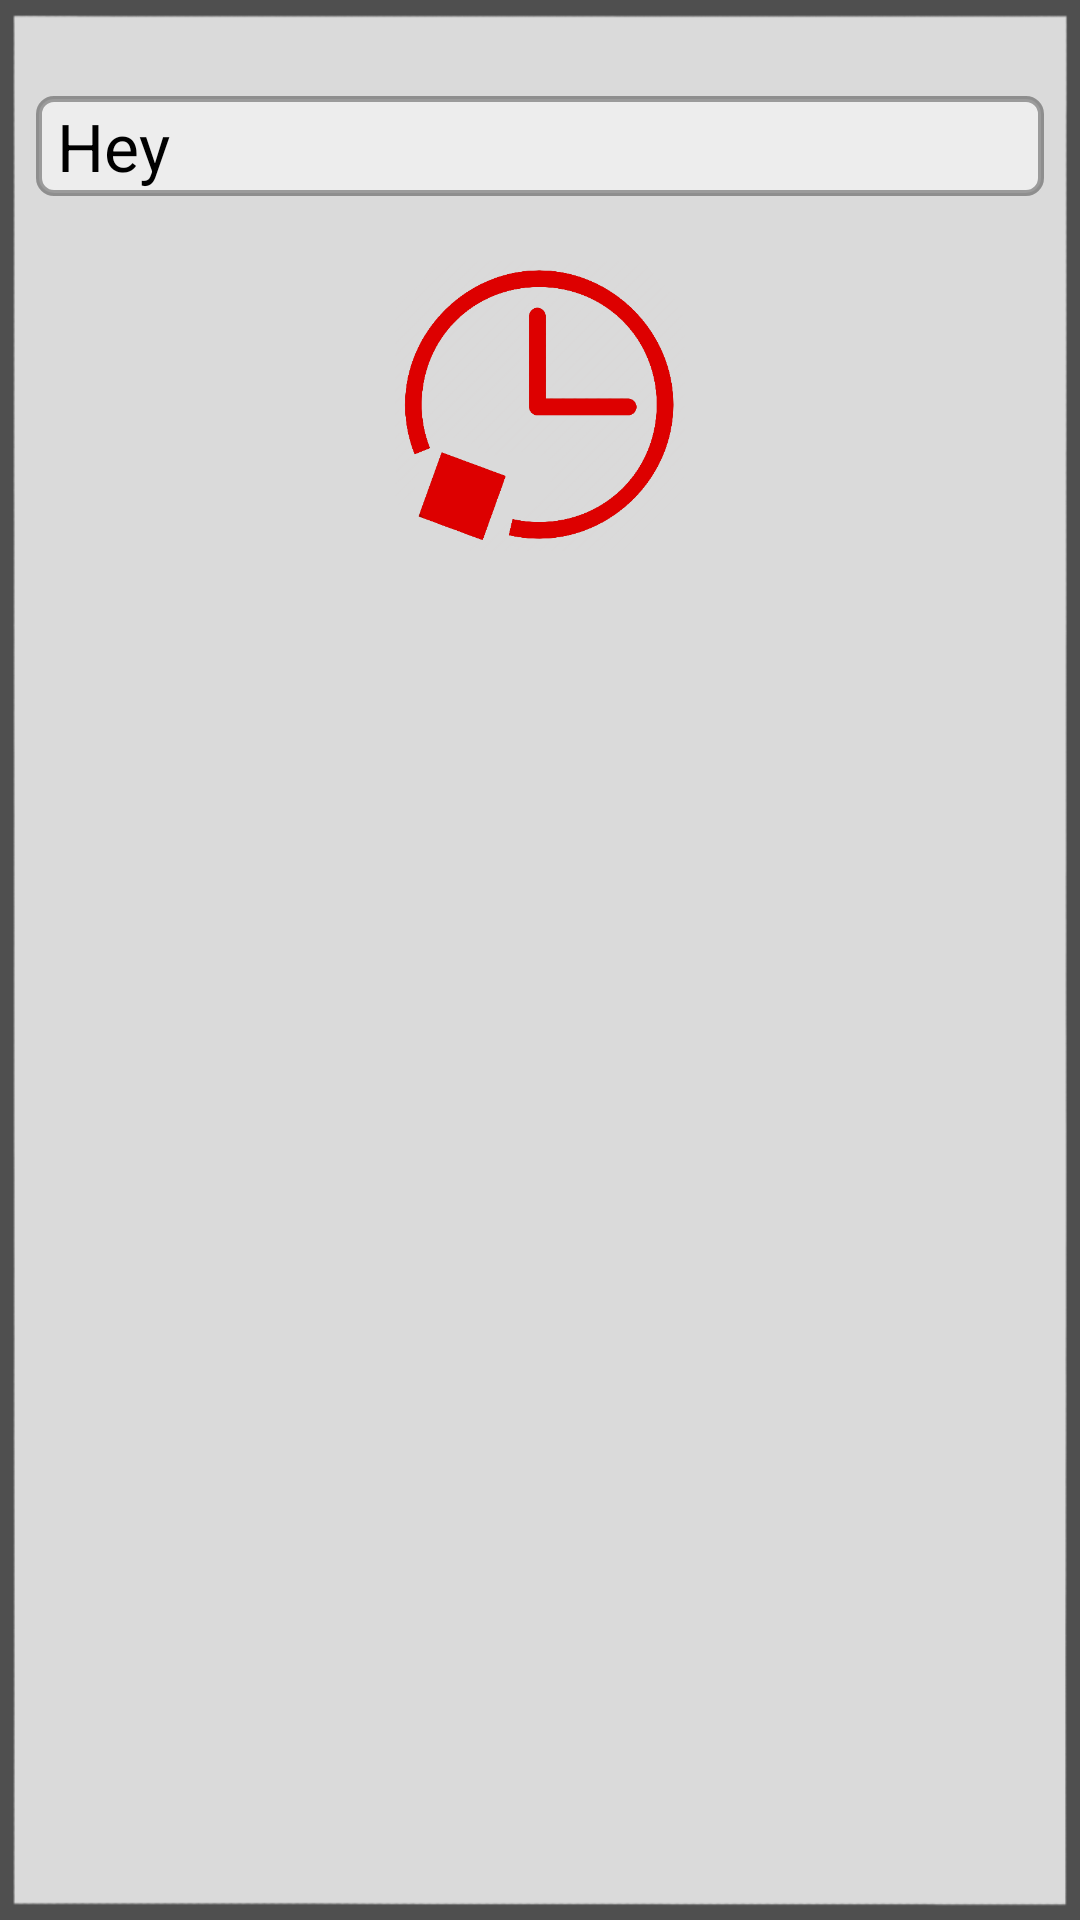

Icon bounding boxes for this 1080px x 1920px phone screenshot, format (x1, y1, x2, y2):
stop: (405, 270, 674, 540)
